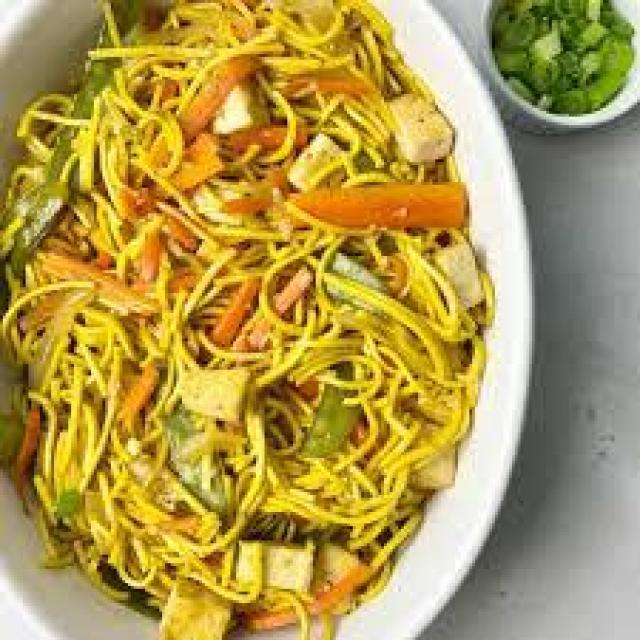pancit bihon: (31, 0, 435, 618)
